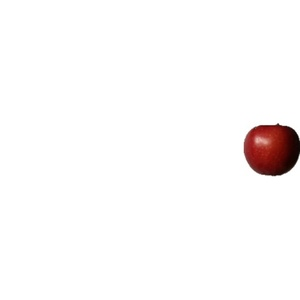maçã braeburn: (244, 120, 299, 177)
